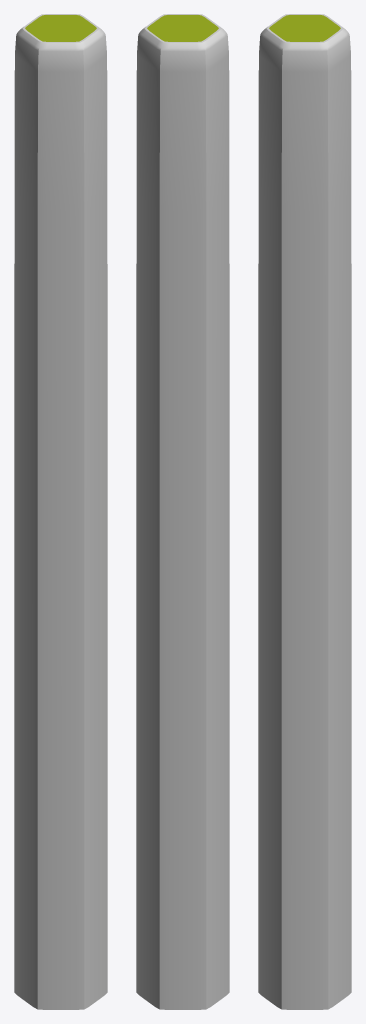
Rendered from Tile_New_2.0.fbx.
3 views of the same model, side by side, from view 1: azimuth 90°, elevation 25°; view 2: azimuth 150°, elevation 25°; view 3: azimuth 330°, elevation 25° (orthographic).
Visible parts, largest first — view 1: Tile_Hex_Subd_Test.002; view 2: Tile_Hex_Subd_Test.002; view 3: Tile_Hex_Subd_Test.002.
Boxes of the visible parts, <box> form: Tile_Hex_Subd_Test.002: <box>14,14,107,1009</box>; Tile_Hex_Subd_Test.002: <box>136,14,229,1009</box>; Tile_Hex_Subd_Test.002: <box>258,14,351,1009</box>.
Size of the model in its own units: 230 by 2965 by 260.
